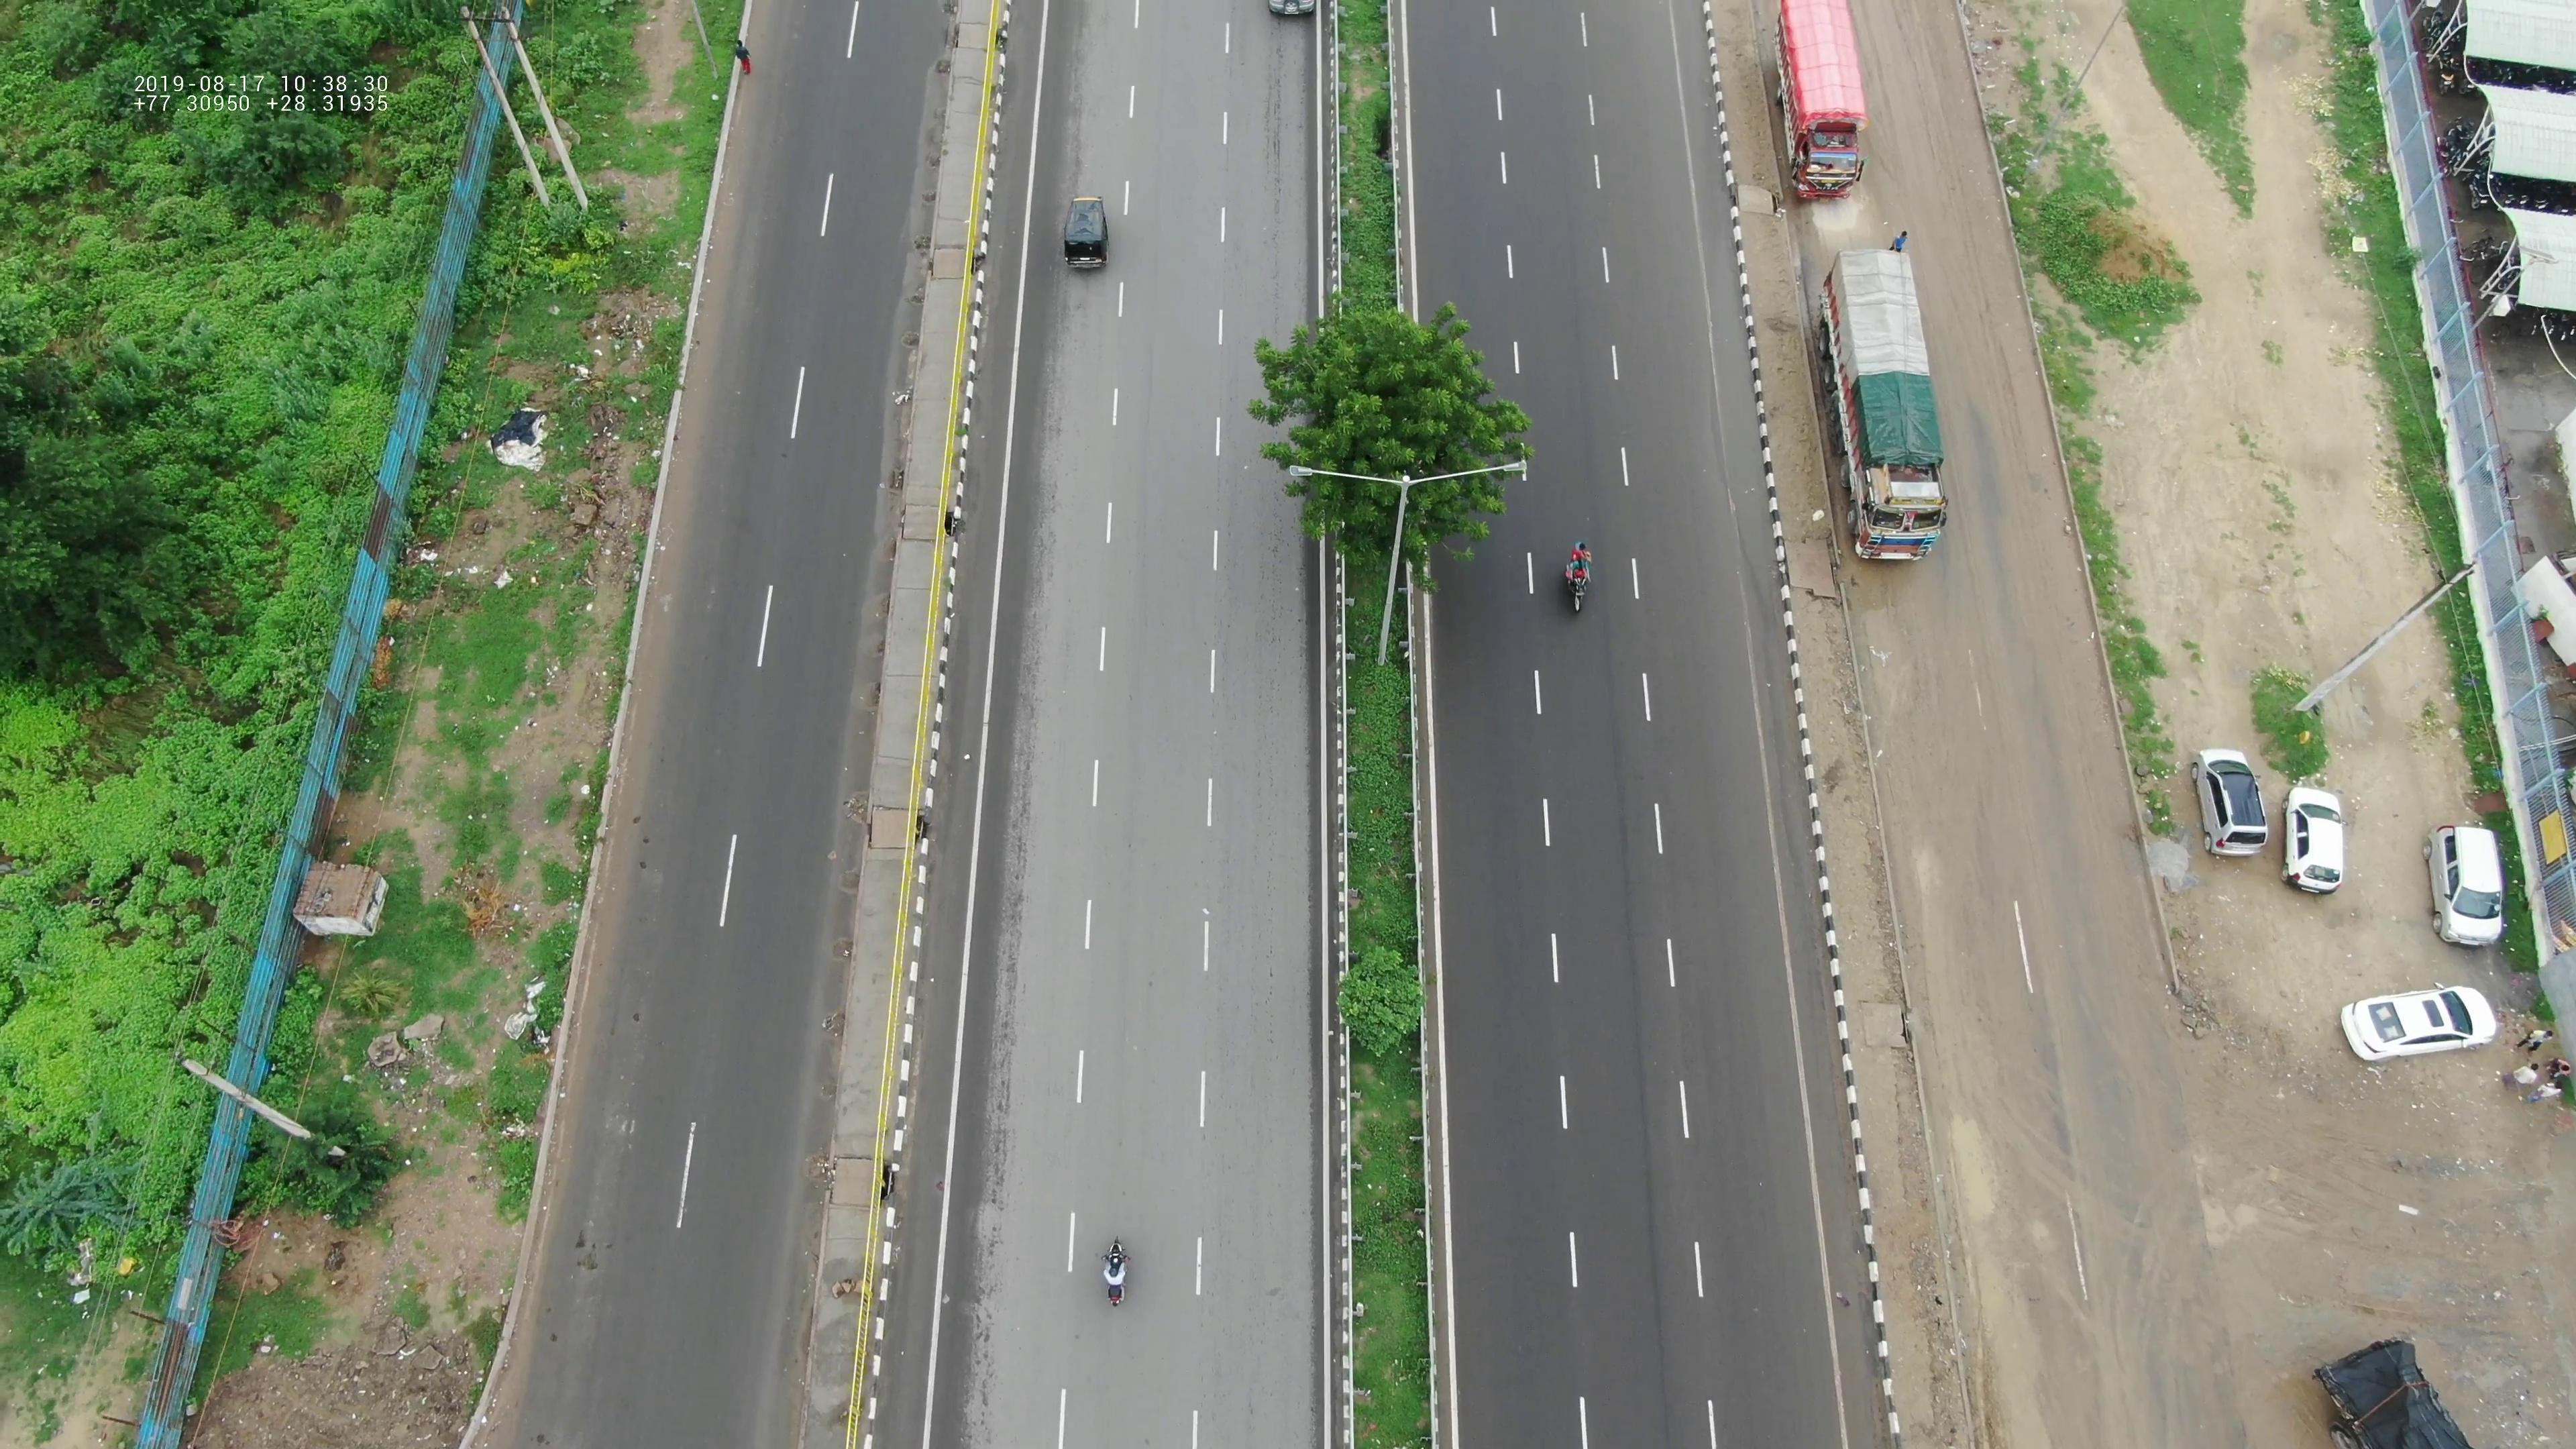Muddy_road: (1893, 69, 2035, 405), (1962, 1132, 2125, 1421), (1916, 821, 2065, 1125), (1863, 579, 1994, 800)
